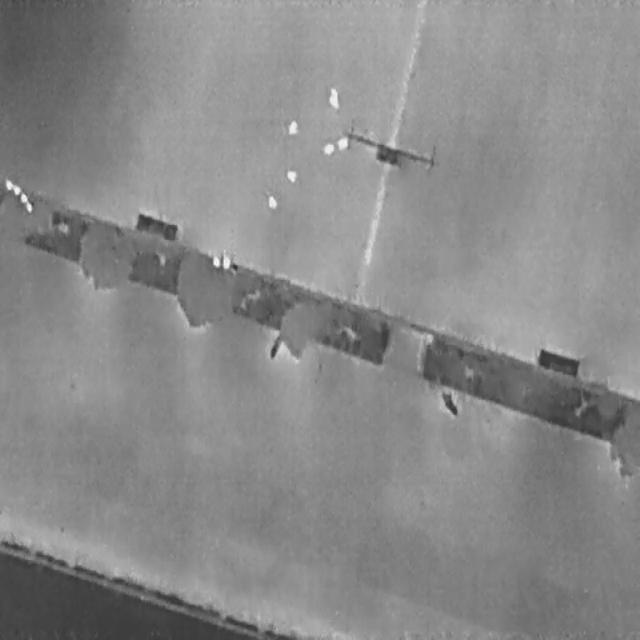Car: (328, 86, 339, 109), (321, 140, 334, 154), (336, 135, 348, 150), (287, 118, 298, 134), (286, 168, 297, 182), (267, 194, 276, 208)
